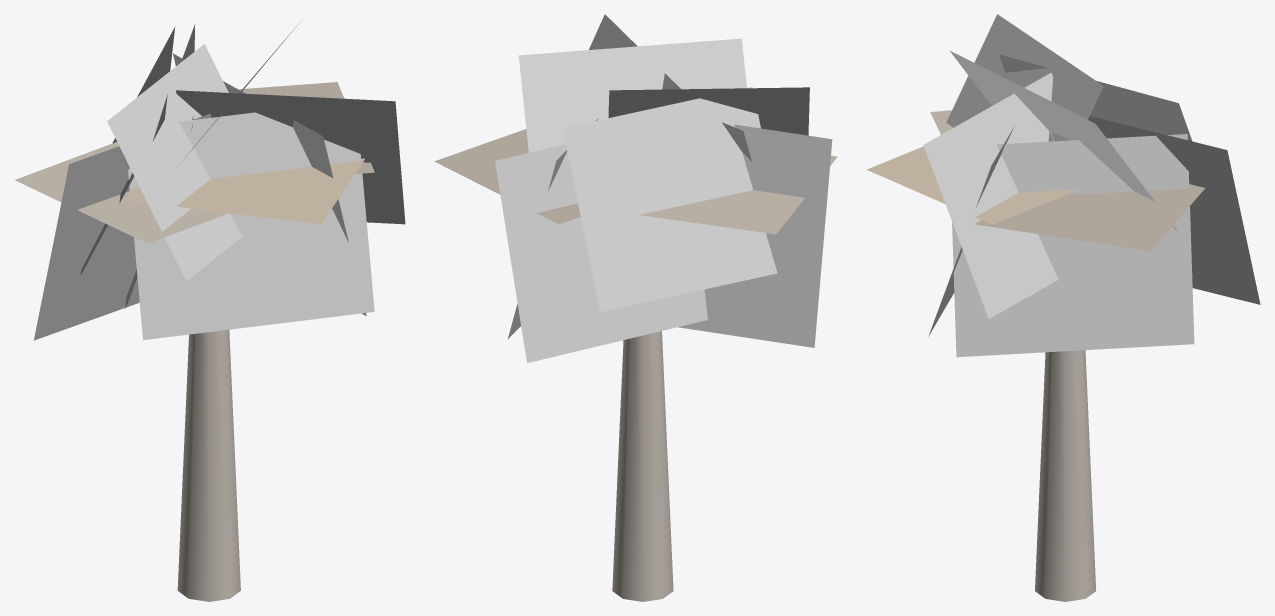
File: tree-autumn-v1.lod1.glb
The picture shows the model from 3 angles, left to right: view 1: azimuth 30°, elevation 25°; view 2: azimuth 150°, elevation 25°; view 3: azimuth 270°, elevation 25°; orthographic projection. The views are drawn at different scales.
Parts seen in each view (by area): view 1: tree-autumn-v1.lod1; view 2: tree-autumn-v1.lod1; view 3: tree-autumn-v1.lod1.
Part boxes in pixels (left/top/right/bottom): tree-autumn-v1.lod1: left=15, top=18, right=405, bottom=601; tree-autumn-v1.lod1: left=434, top=14, right=837, bottom=601; tree-autumn-v1.lod1: left=867, top=14, right=1260, bottom=601.
Size of the model in its own units: 6.01 by 8.82 by 6.08.
